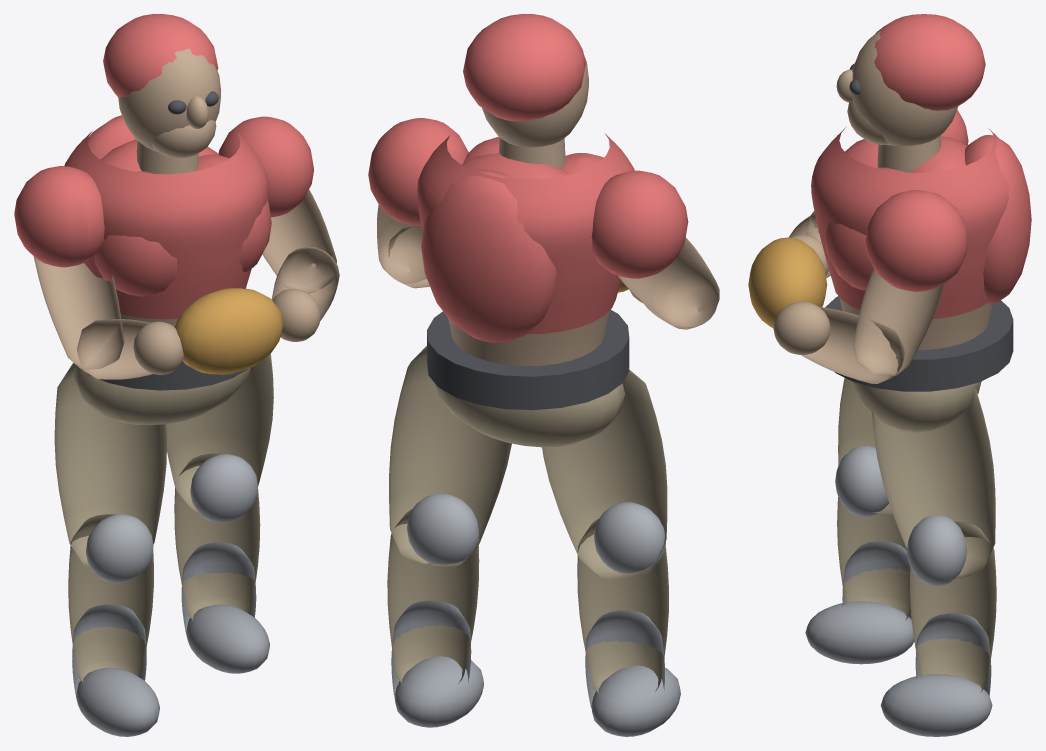
Rendered from terror.glb.
3 renders of one model, left to right at view 1: azimuth 30°, elevation 25°; view 2: azimuth 150°, elevation 25°; view 3: azimuth 270°, elevation 25°, orthographic. The views are drawn at different scales.
Visible parts, largest first — view 1: Hull; view 2: Hull; view 3: Hull.
Part boxes in pixels (<box>): Hull: <box>14,14,339,736</box>; Hull: <box>368,14,719,736</box>; Hull: <box>748,14,1031,736</box>.
Bounding box in the file's own units: 0.4343 × 0.937 × 0.3555.
